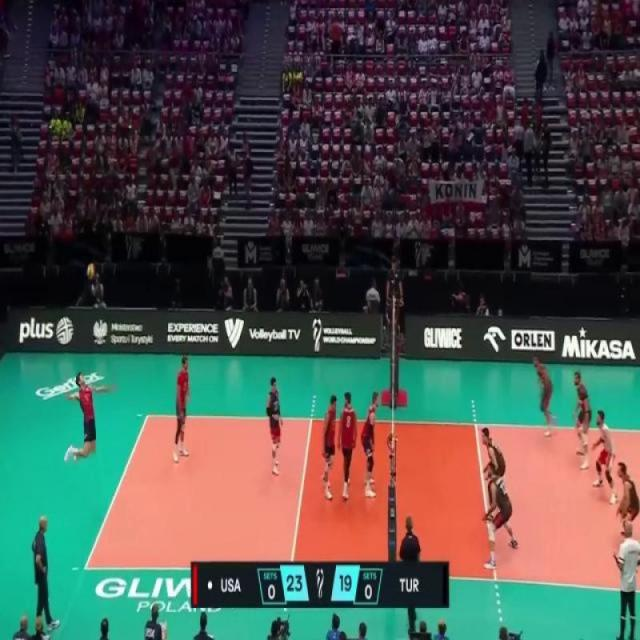volleyball: (85, 260, 96, 283)
